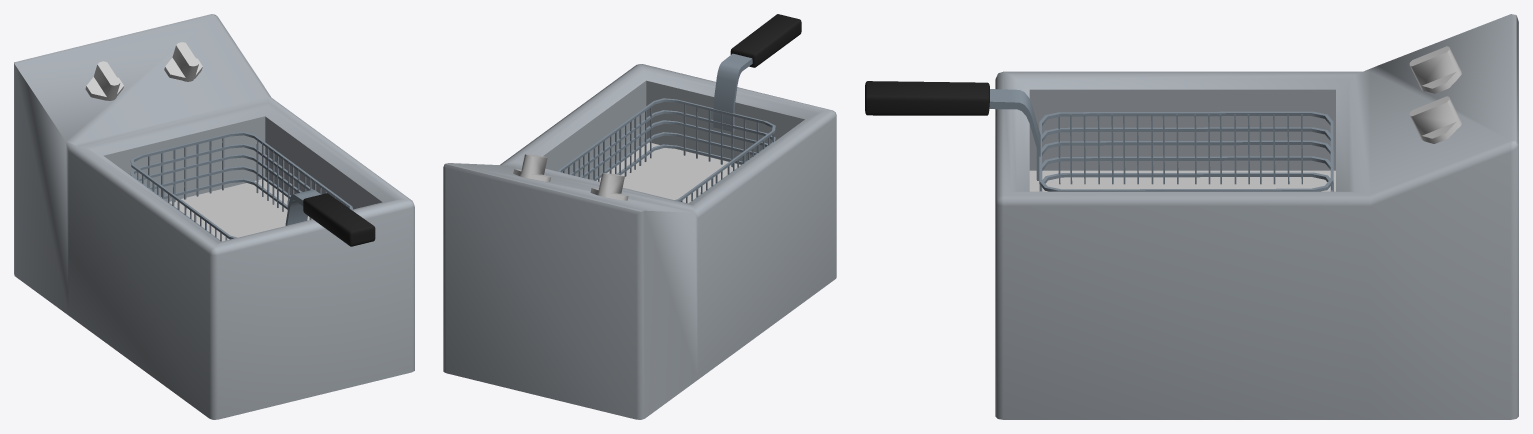
Rendered from Deep-fryer-1.fbx.
3 renders of one model, left to right at view 1: azimuth 30°, elevation 25°; view 2: azimuth 150°, elevation 25°; view 3: azimuth 270°, elevation 25°, orthographic. The views are drawn at different scales.
Parts seen in each view (by area): view 1: Deep-fryer, Deep fryer strainer-1, Deep-fryer.001; view 2: Deep-fryer, Deep fryer strainer-1, Deep-fryer.001; view 3: Deep-fryer, Deep fryer strainer-1, Deep-fryer.001.
Boxes of the visible parts, box(x1,y1,x2,y2) form: Deep-fryer: box(14, 14, 414, 419); Deep fryer strainer-1: box(130, 132, 375, 246); Deep-fryer.001: box(169, 179, 312, 241); Deep-fryer: box(443, 64, 836, 419); Deep fryer strainer-1: box(557, 14, 801, 203); Deep-fryer.001: box(596, 142, 740, 203); Deep-fryer: box(995, 14, 1518, 419); Deep fryer strainer-1: box(865, 81, 1333, 191); Deep-fryer.001: box(1029, 170, 1335, 191).
Size of the model in its own units: 0.2362 by 0.2385 by 0.5017.
